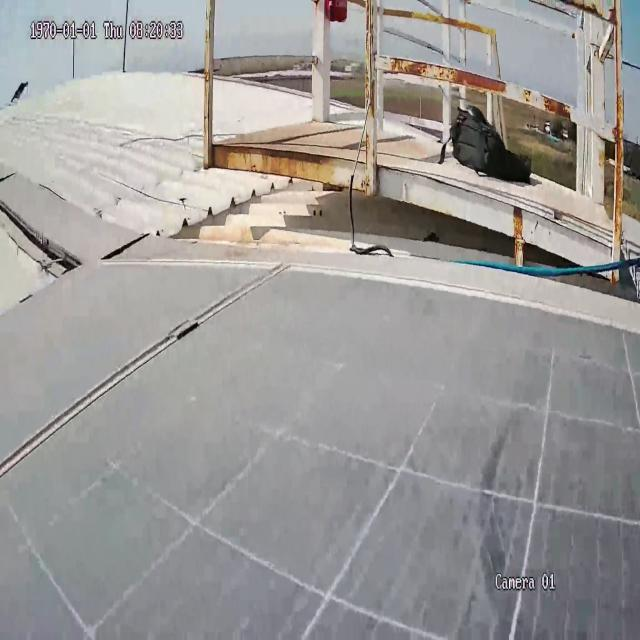interior panel: (0, 256, 291, 493)
